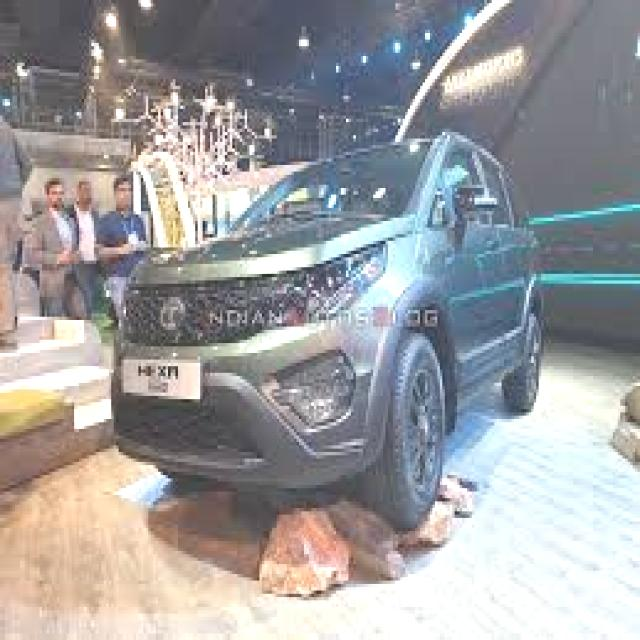SUV: (105, 127, 546, 525)
